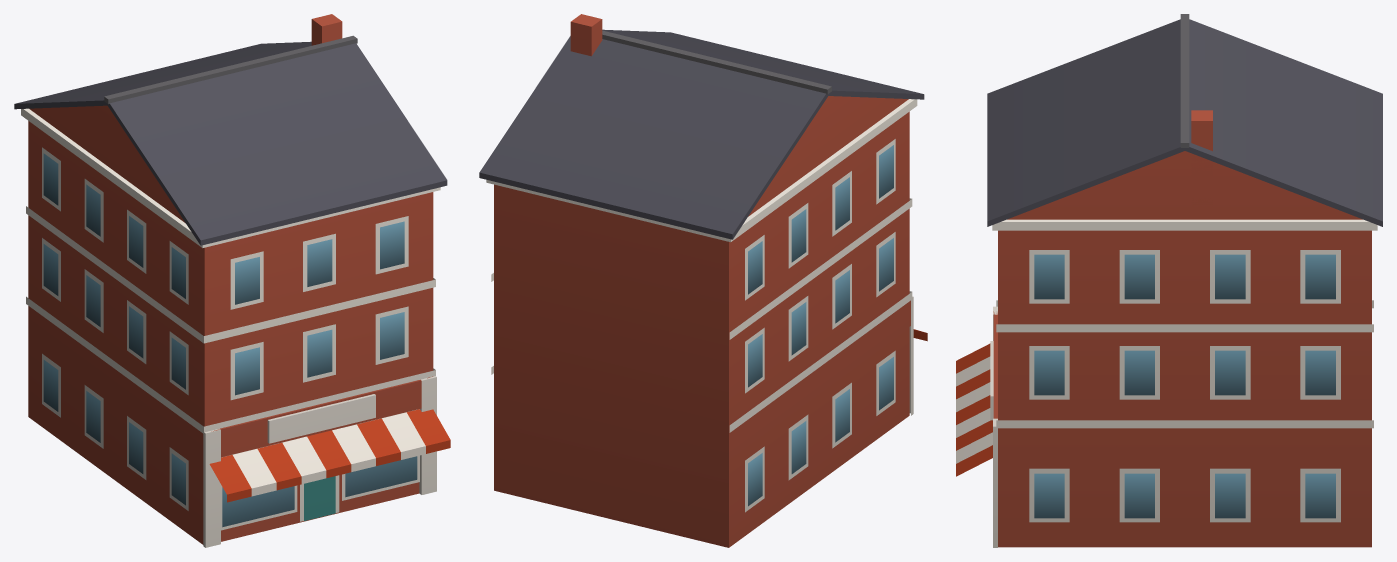
The model's file is beacon_n20_far.glb.
3 renders of one model, left to right at view 1: azimuth 30°, elevation 25°; view 2: azimuth 150°, elevation 25°; view 3: azimuth 270°, elevation 25°, orthographic. The views are drawn at different scales.
Parts seen in each view (by area): view 1: beacon_n20_far; view 2: beacon_n20_far; view 3: beacon_n20_far.
Part boxes in pixels (x1,y1,x2,y2): beacon_n20_far: [14, 14, 450, 547]; beacon_n20_far: [479, 14, 927, 547]; beacon_n20_far: [956, 14, 1382, 547].
Size of the model in its own units: 9.8 by 15.1 by 13.7.
Materials: 1 (1 with a texture image).
